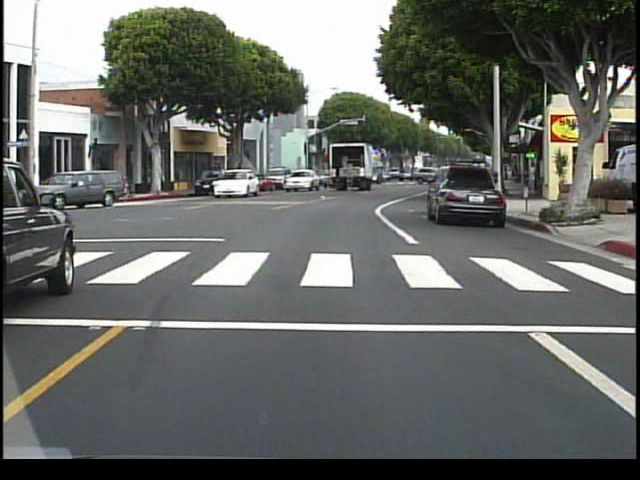car: (2, 154, 77, 298), (428, 161, 498, 223), (37, 163, 128, 206), (214, 170, 260, 198), (283, 168, 319, 192)
striscie pedonali: (77, 239, 628, 295)
